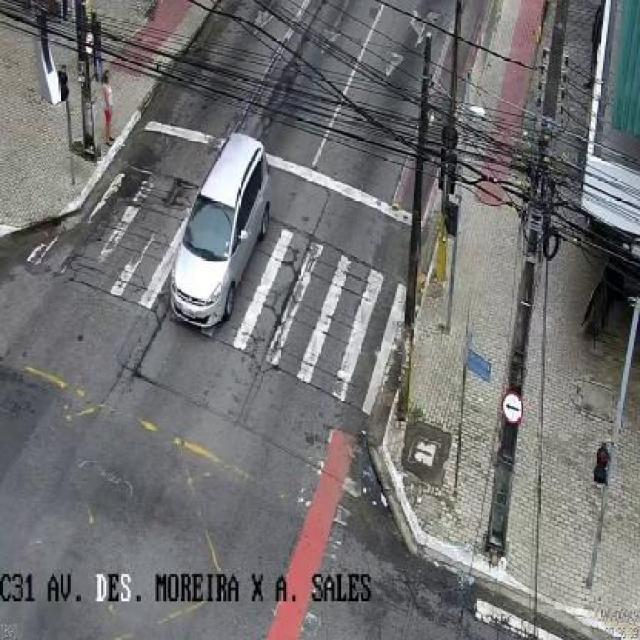Car: (146, 137, 318, 335)
